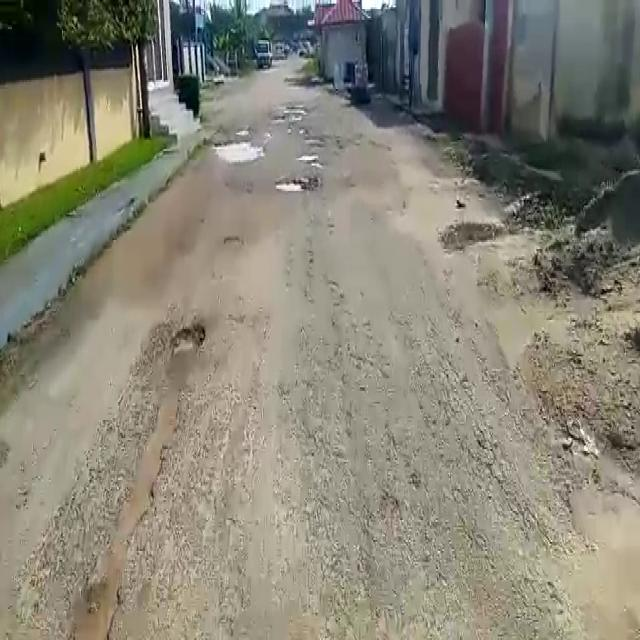Pothole: (166, 327, 207, 360), (214, 135, 264, 161), (273, 178, 309, 194), (300, 152, 324, 163)
